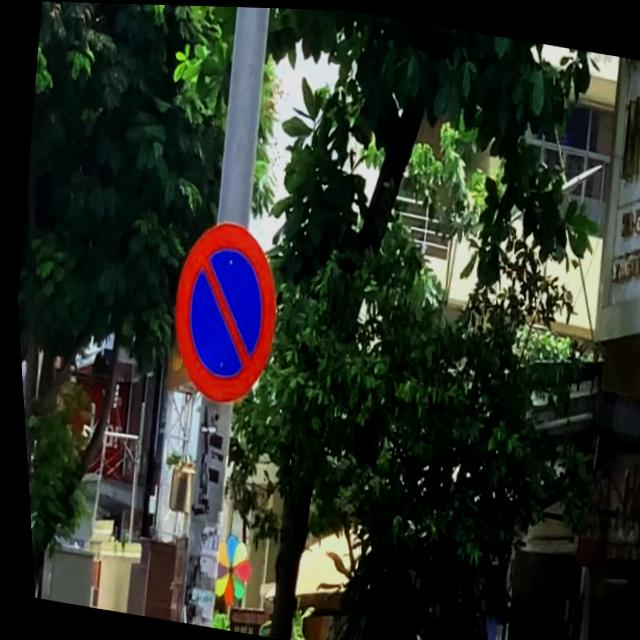Cam do xe: (155, 209, 295, 412)
